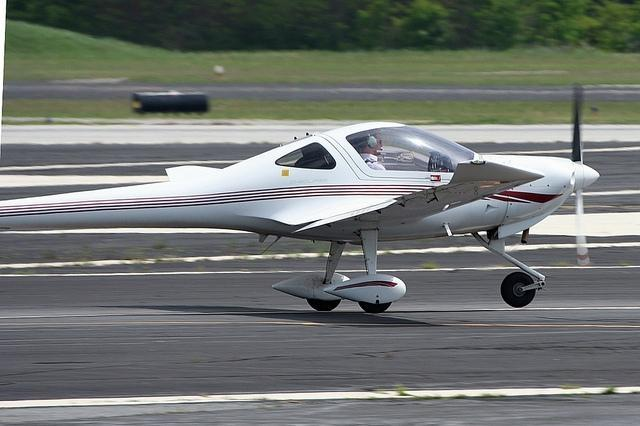bus: (130, 91, 208, 113)
